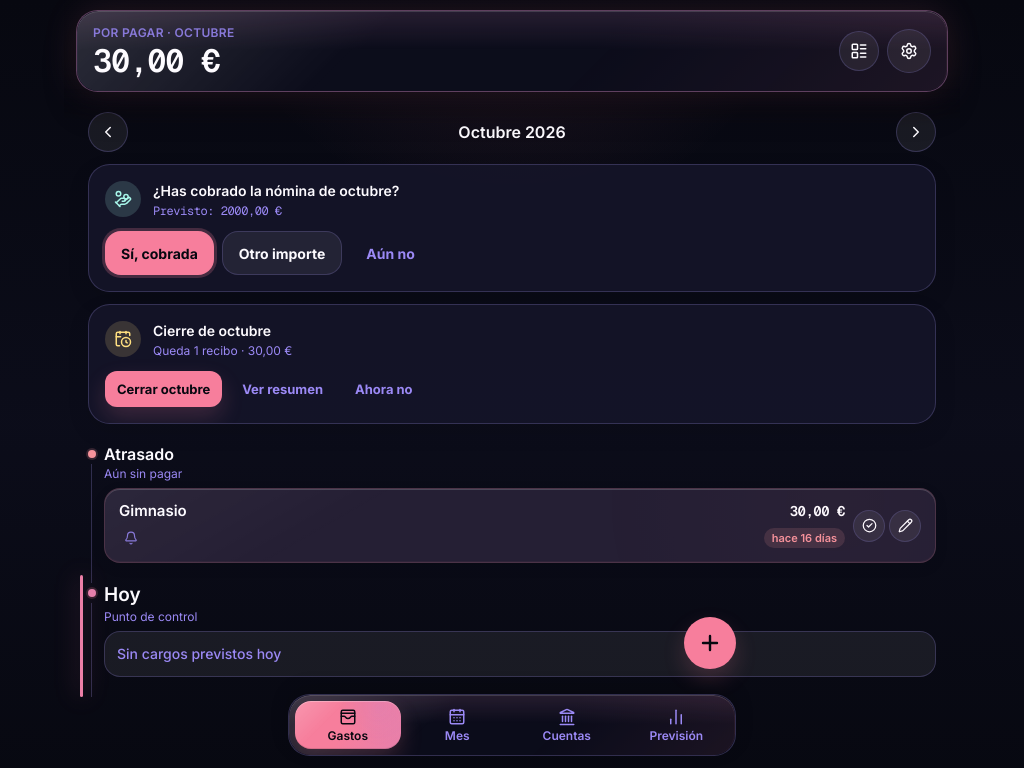
Test case: ExpenseDashboard salary prompt focus › hands the focus to the month title after 'Sí, cobrada'
This screenshot has width=1024, height=768.
Click the button "Sí, cobrada" at (159, 253), box left=105, top=231, right=214, bottom=275
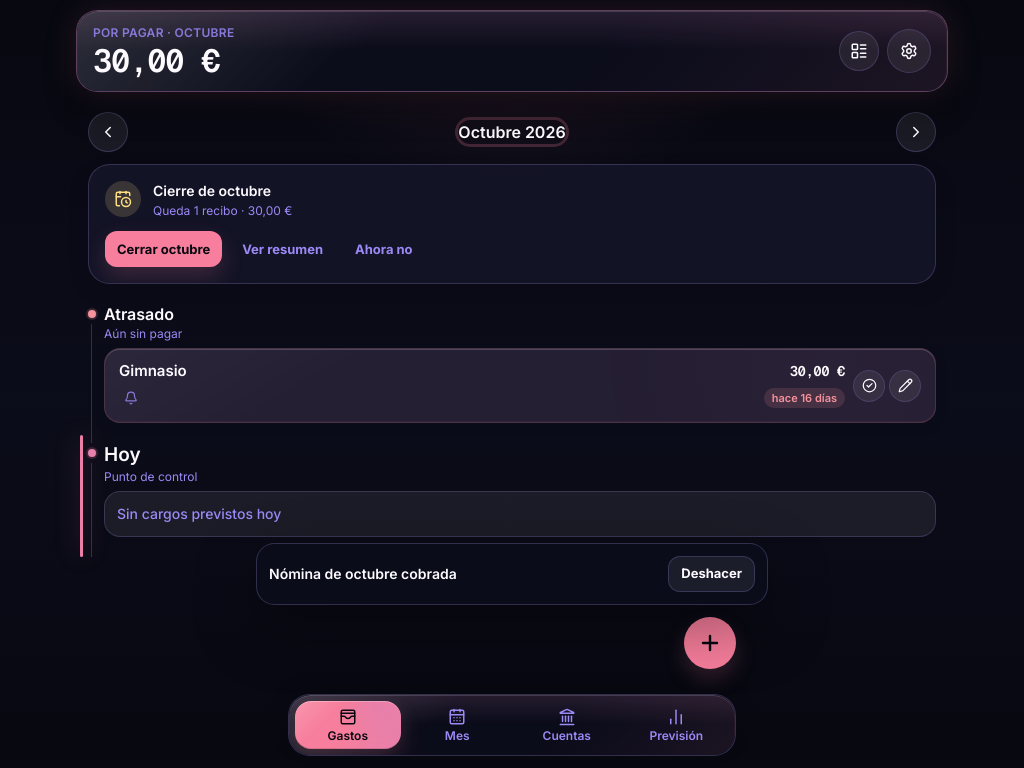
Check: the heading "¿Has cobrado la nómina de octubre?" is gone
